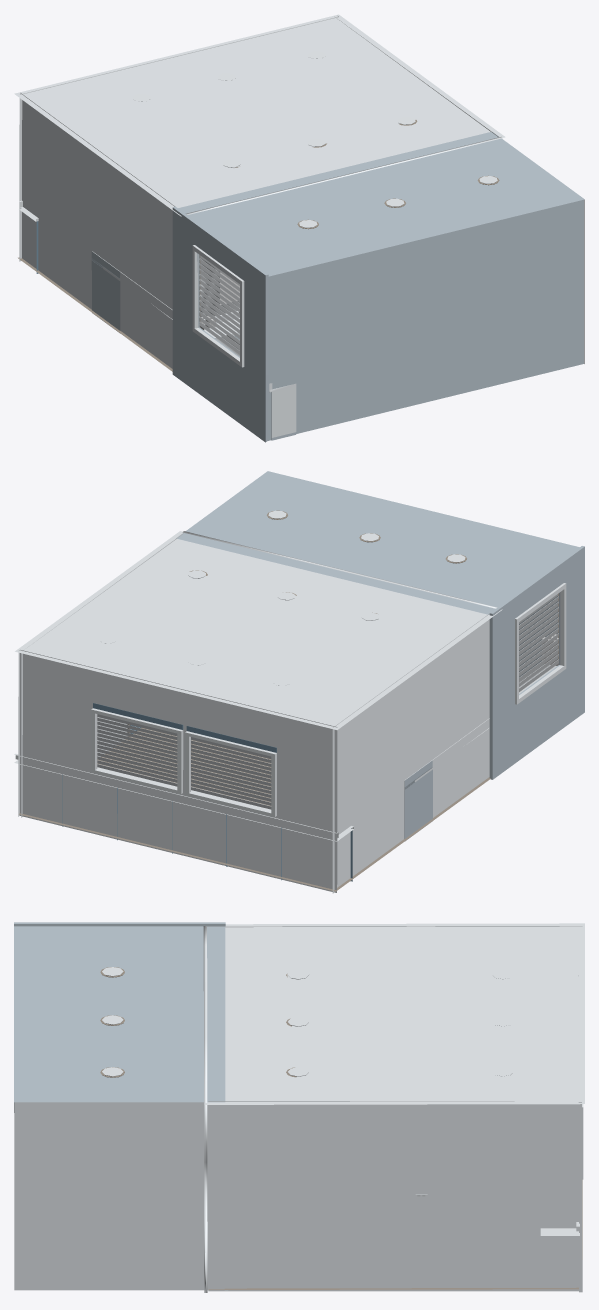
Rendered from Roomtest01.fbx.
3 renders of one model, top to bottom at view 1: azimuth 30°, elevation 25°; view 2: azimuth 150°, elevation 25°; view 3: azimuth 270°, elevation 25°, orthographic. The views are drawn at different scales.
Visible parts, largest first — view 1: ight and wall, pCube1, Sinks.001, Shelf; view 2: pCube1, ight and wall, pCube31.001, pCube31, Sinks.001, Sinks.006, pCube4; view 3: pCube1, pCube4, Wall.002, ight and wall.
Part boxes in pixels (bbox=[...]): ight and wall: bbox=[172, 131, 584, 442]; pCube1: bbox=[14, 14, 505, 371]; Sinks.001: bbox=[91, 251, 172, 331]; Shelf: bbox=[204, 311, 296, 440]; pCube1: bbox=[15, 531, 502, 893]; ight and wall: bbox=[176, 471, 584, 779]; pCube31.001: bbox=[91, 703, 183, 794]; pCube31: bbox=[185, 726, 276, 816]; Sinks.001: bbox=[404, 718, 489, 841]; Sinks.006: bbox=[14, 753, 353, 881]; pCube4: bbox=[21, 533, 183, 817]; pCube1: bbox=[203, 923, 584, 1292]; pCube4: bbox=[208, 1101, 578, 1291]; Wall.002: bbox=[14, 1102, 224, 1290]; ight and wall: bbox=[14, 922, 227, 1290].
Size of the model in its own units: 618 by 303 by 815.
